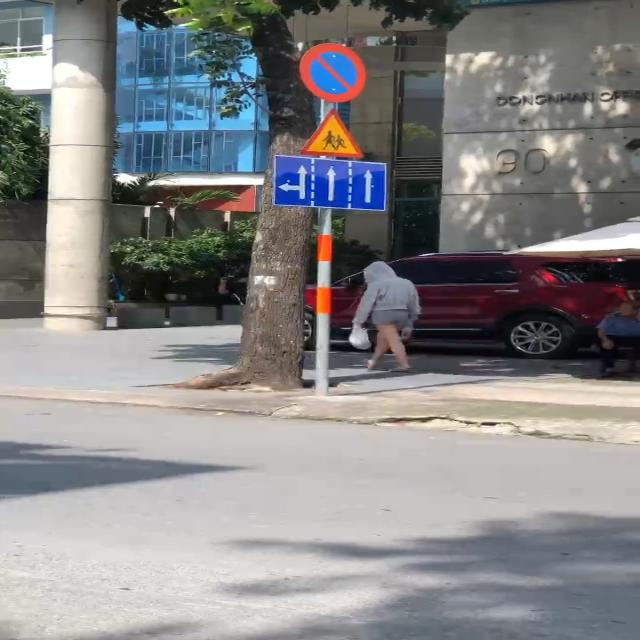Bien bao cam do xe: (295, 38, 377, 105)
Bien bao tre em: (288, 108, 372, 158)
